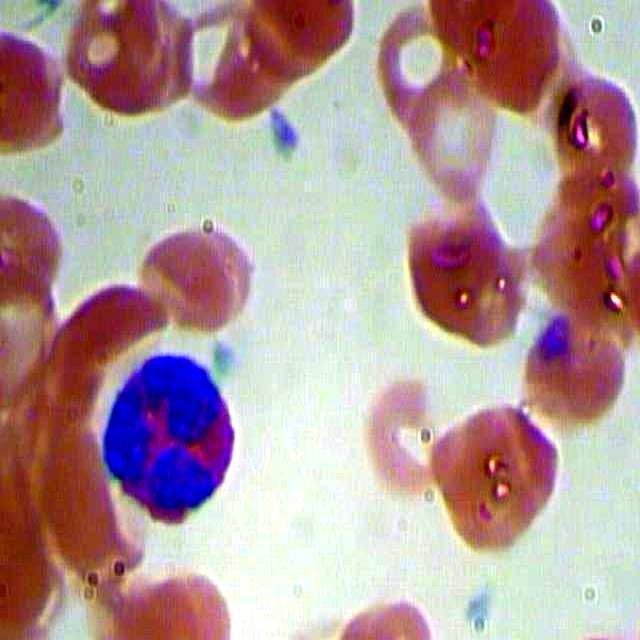Platelets: (264, 106, 305, 166)
RBC: (429, 403, 559, 557), (392, 204, 528, 348), (140, 215, 264, 337), (521, 308, 629, 437), (173, 1, 286, 124), (546, 64, 640, 195), (408, 75, 502, 205), (372, 1, 466, 131), (360, 377, 451, 499), (61, 1, 160, 96), (1, 34, 66, 162)
WBC: (91, 348, 249, 532)
